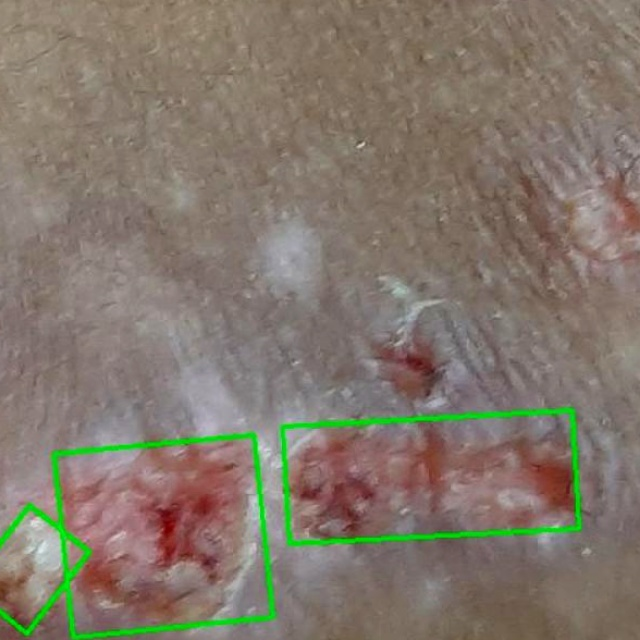Eczema: (54, 434, 271, 637), (281, 411, 578, 544), (0, 506, 89, 633)
